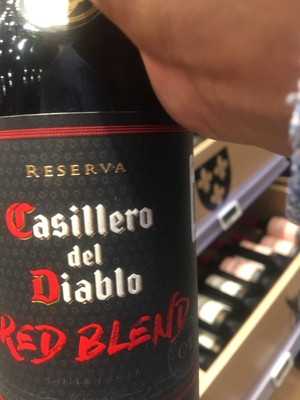casillero del diablo red blend: (1, 51, 223, 400)
